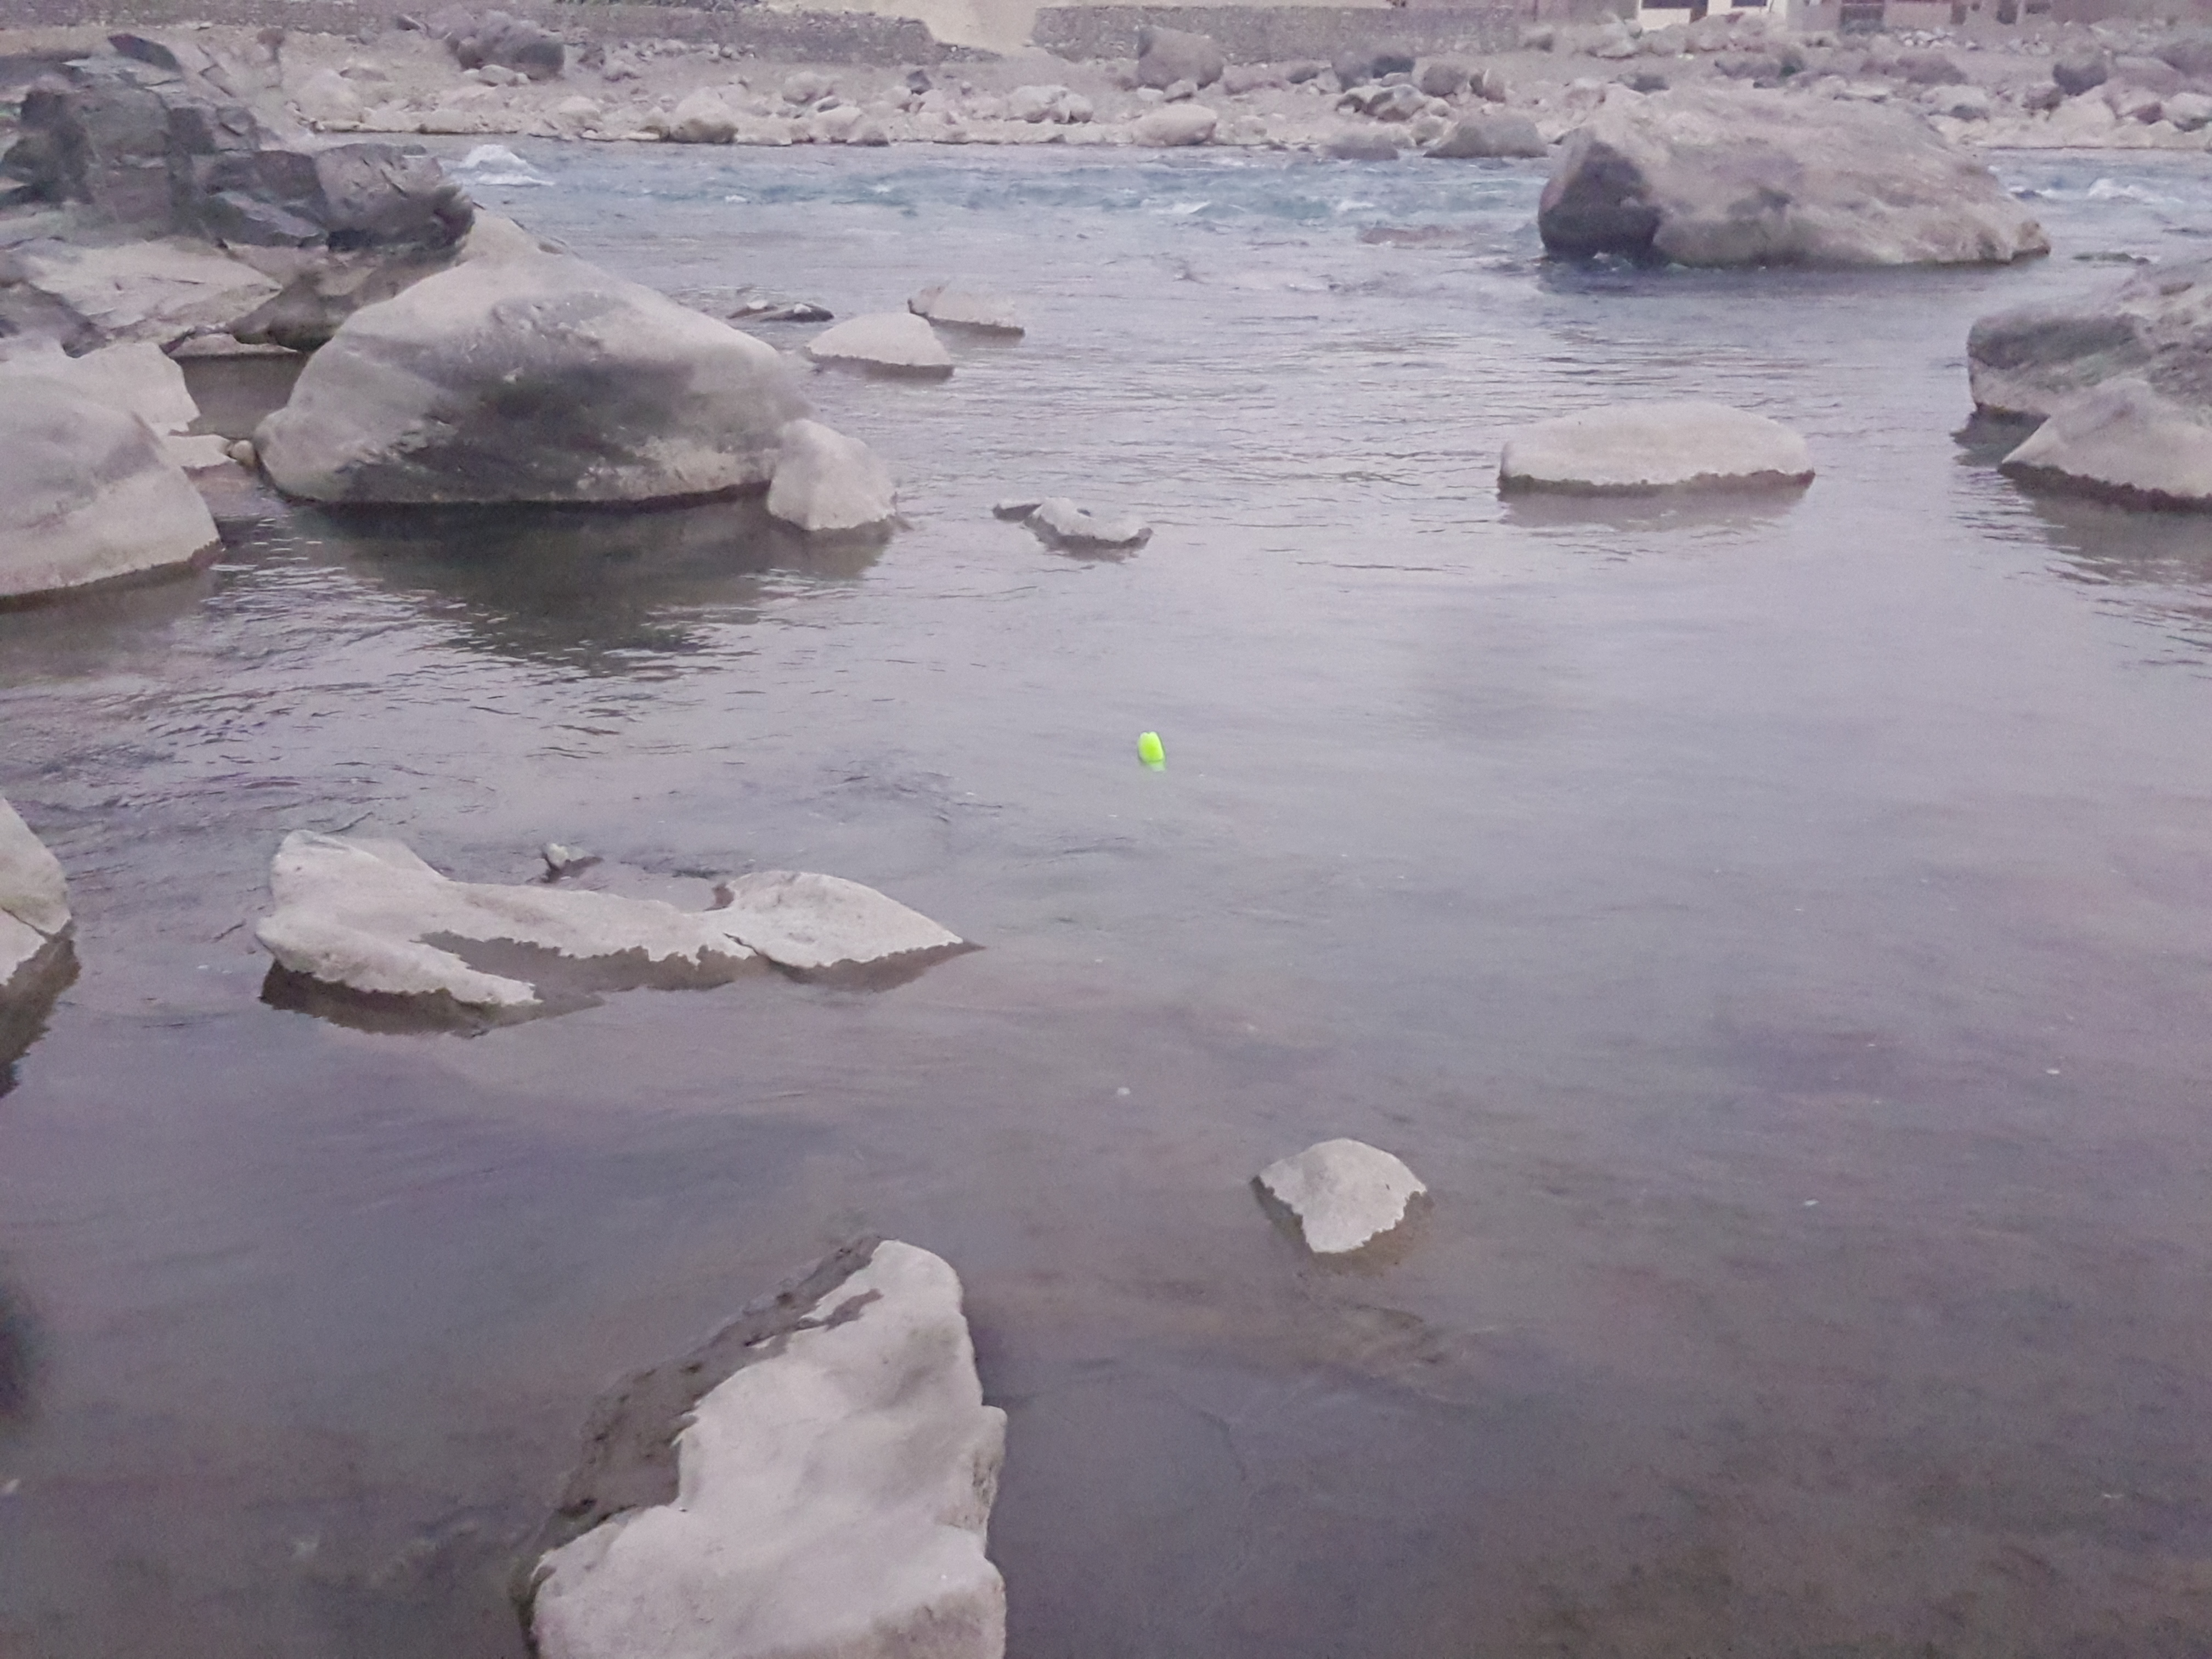Plastic Bottle: (1137, 730, 1163, 763)
